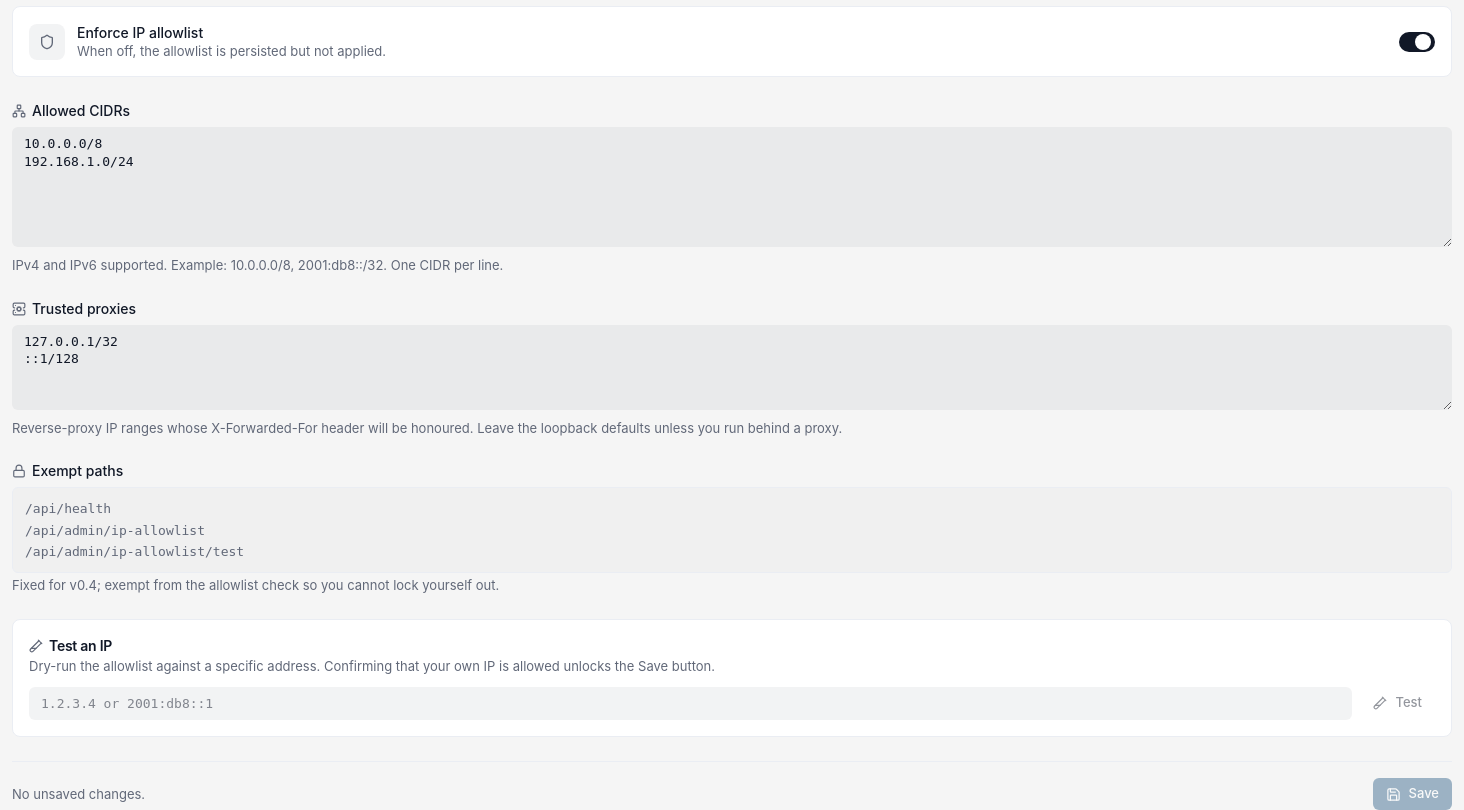
Test: IpAllowlistTab › save button is enabled when dirty + enabled=false
(page scrolled)
Click the switch with test id "ip-allowlist-enabled-toggle": (1417, 42) [1399, 32, 1435, 52]
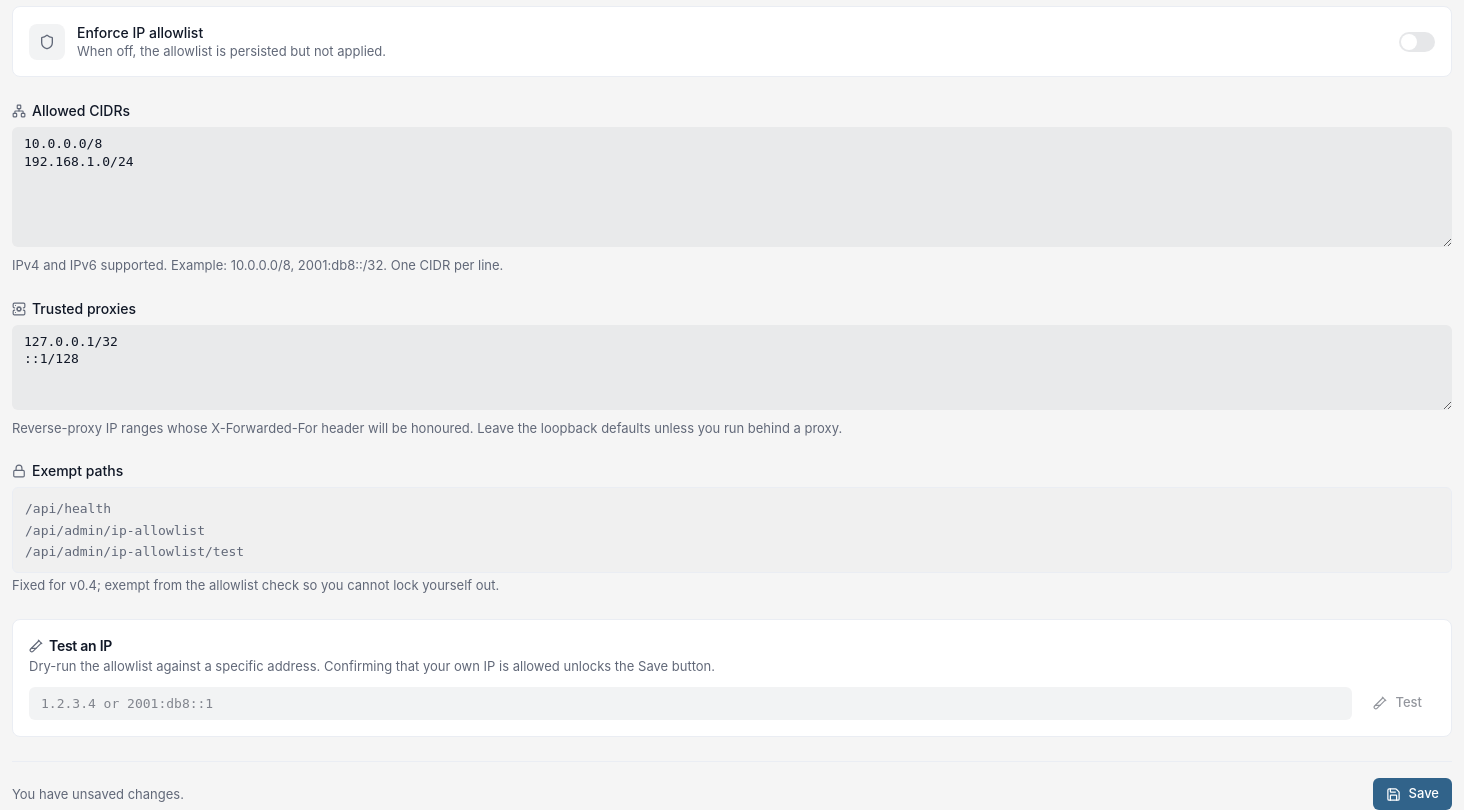
Expected: the button with test id "ip-allowlist-save-btn" is enabled, [1373, 778, 1452, 809]
